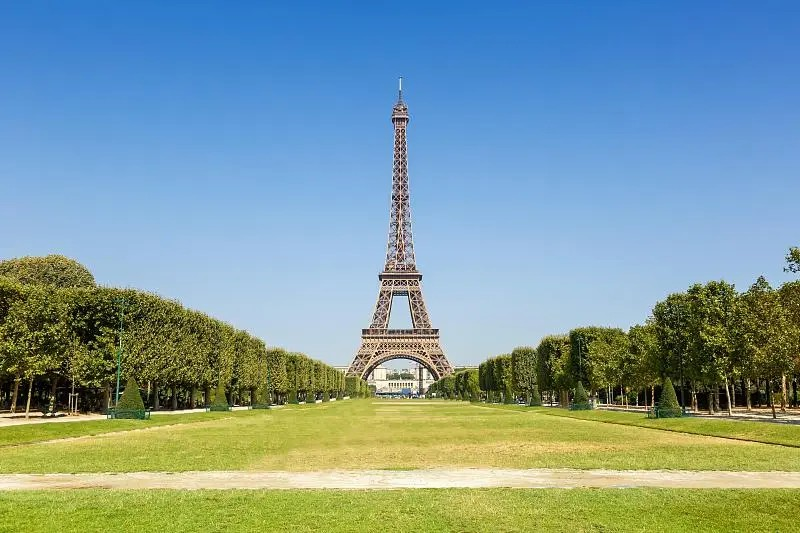Eiffel: (345, 76, 456, 381)
